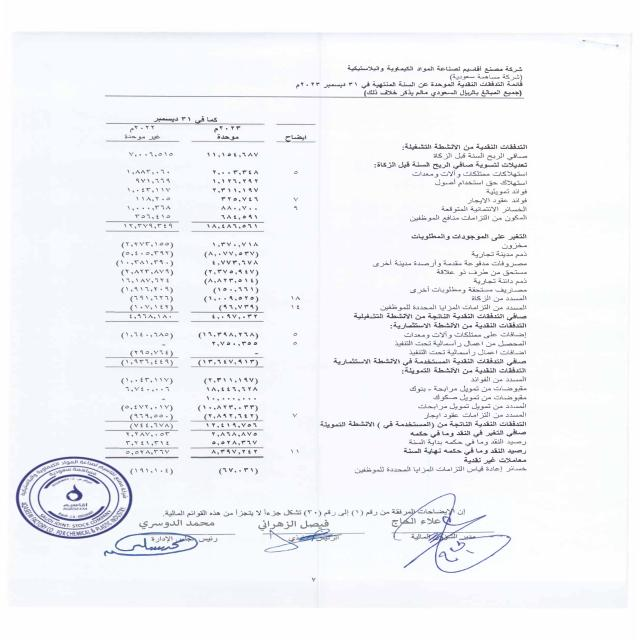financial_sheets: (454, 80, 524, 90)
table: (69, 107, 322, 480)
